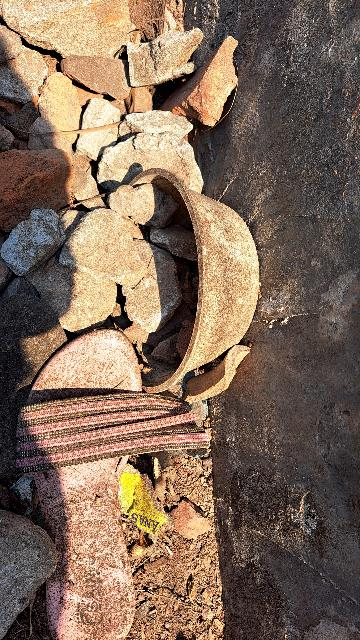hardplastic: (119, 159, 289, 409)
